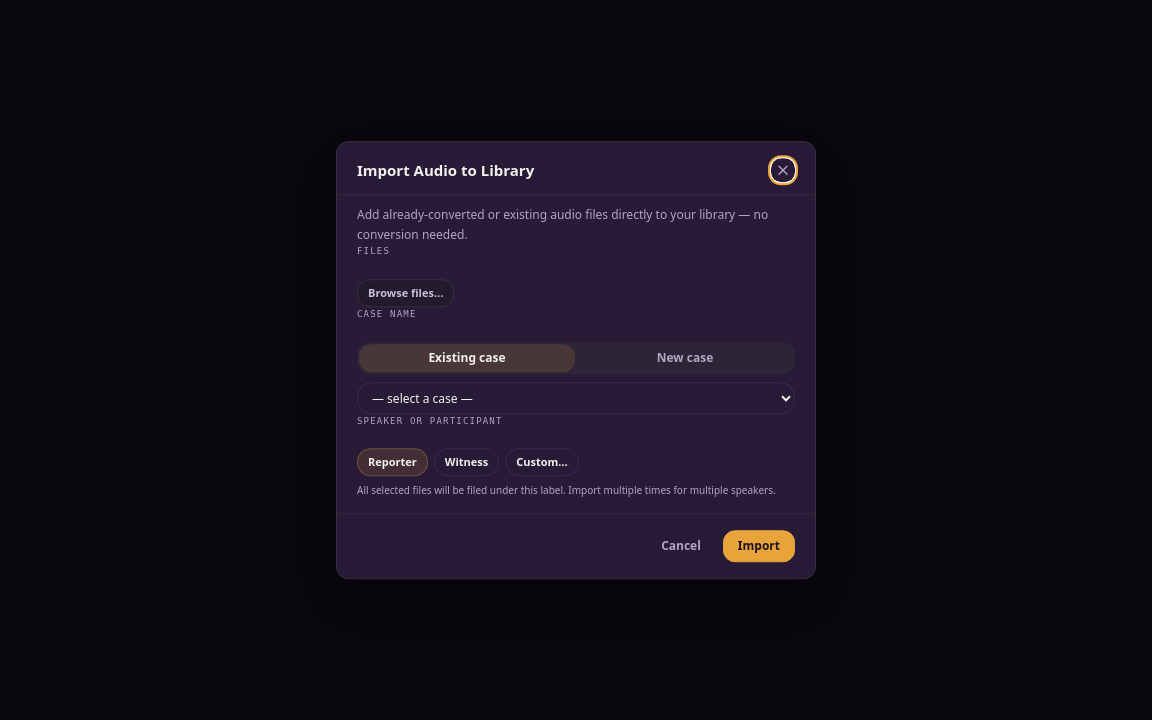
accessible app shell and Library › exposes Import choices, selected state, durable field labels, and focused validation
The image size is (1152, 720).
Expected: the dialog "Import Audio to Library" is shown, [336, 141, 816, 579]
Expected: the element "Case name" is shown, [337, 307, 815, 414]
Click the button "New case" at (685, 358), box [577, 344, 793, 372]
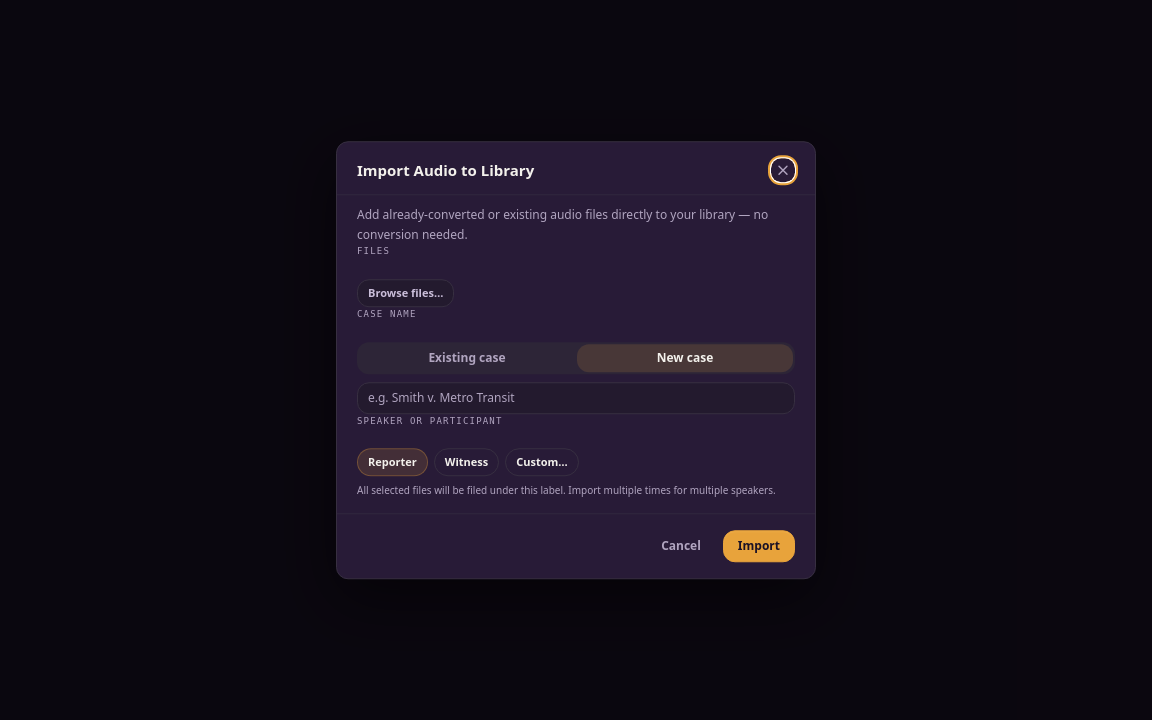
Now the field named "New case name" is shown, box [357, 382, 795, 414]
Click the button "Custom…" at (542, 462), box [505, 448, 579, 476]
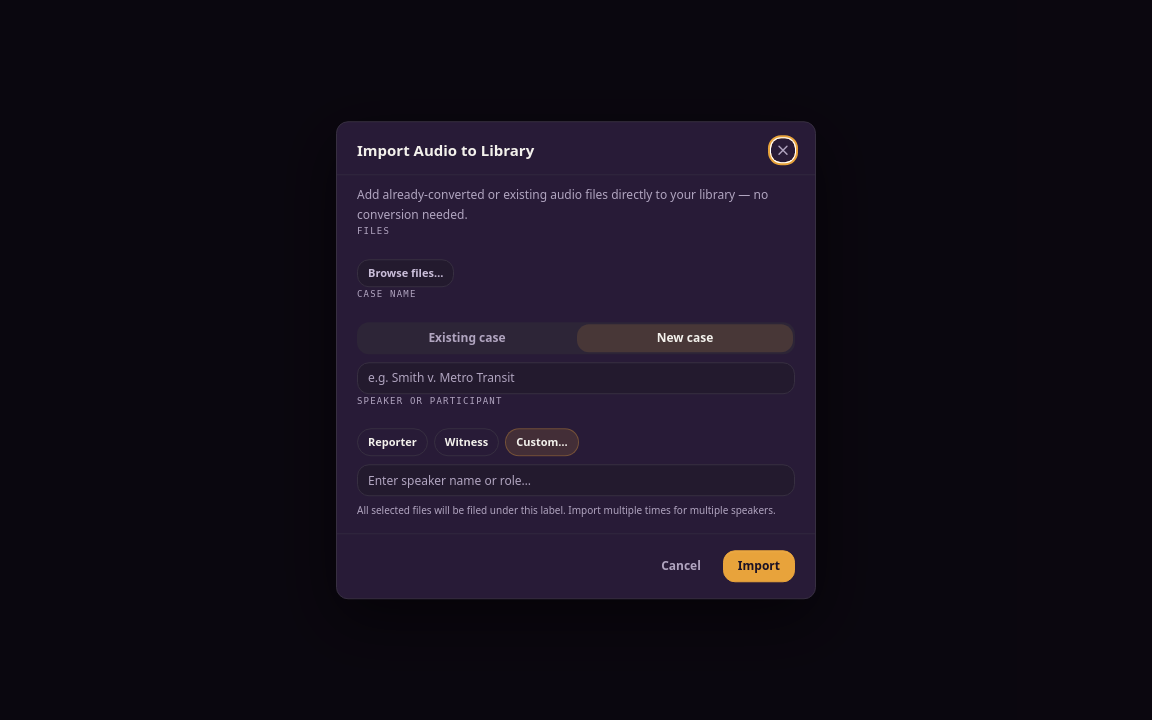
Now the field named "Custom speaker or participant" is shown, box [357, 464, 795, 496]
Click the button "Import" at (759, 566), box [723, 550, 795, 582]
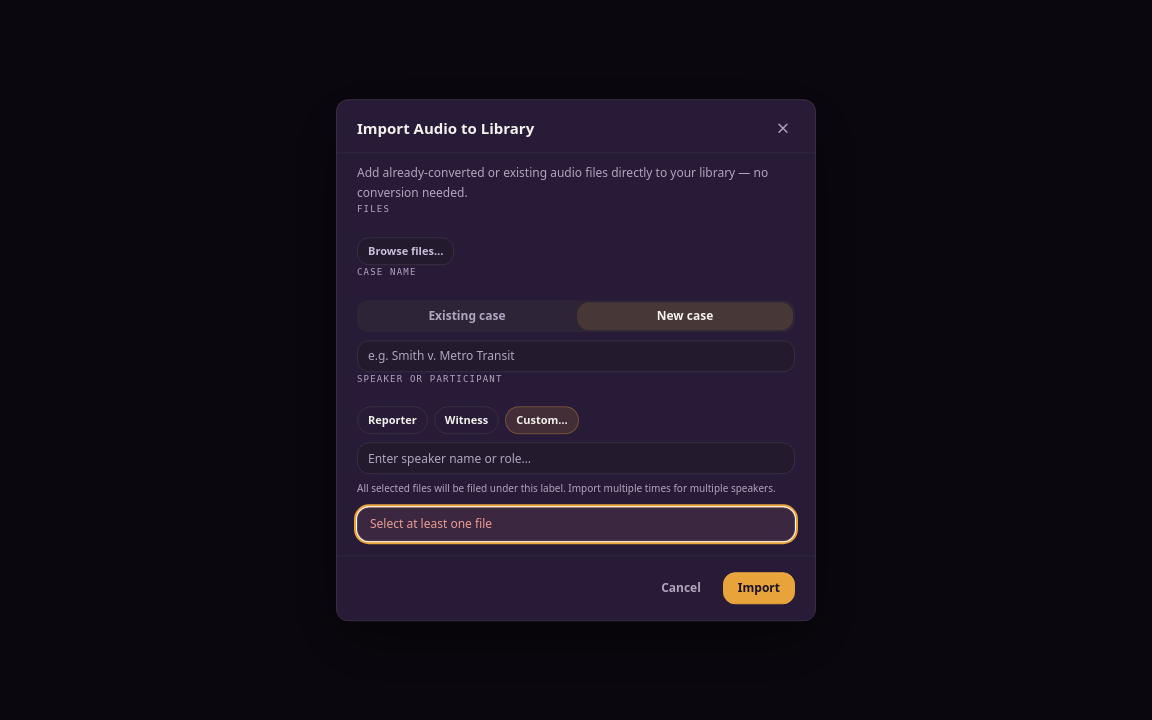
Now the message reads "Select at least one file", box [370, 515, 492, 532]
